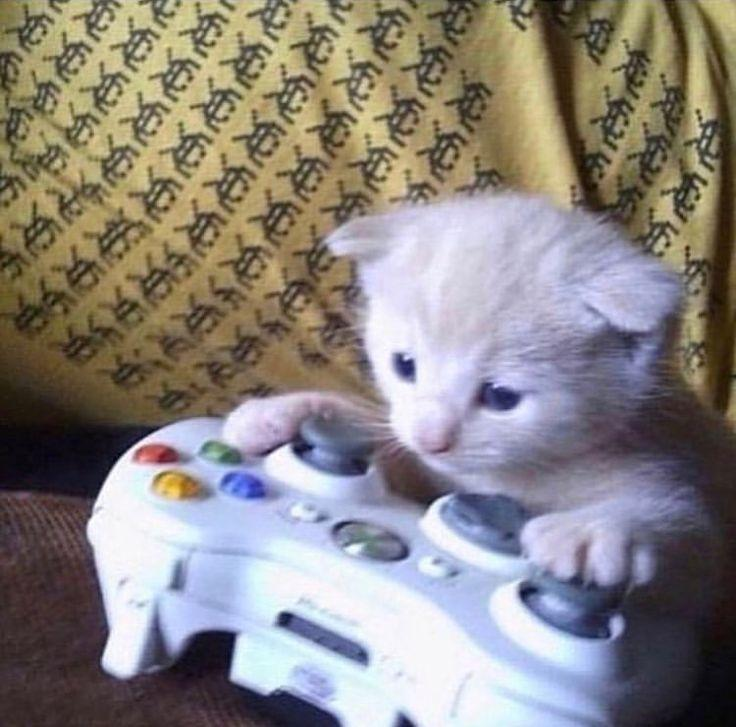kedo: (325, 194, 736, 591)
